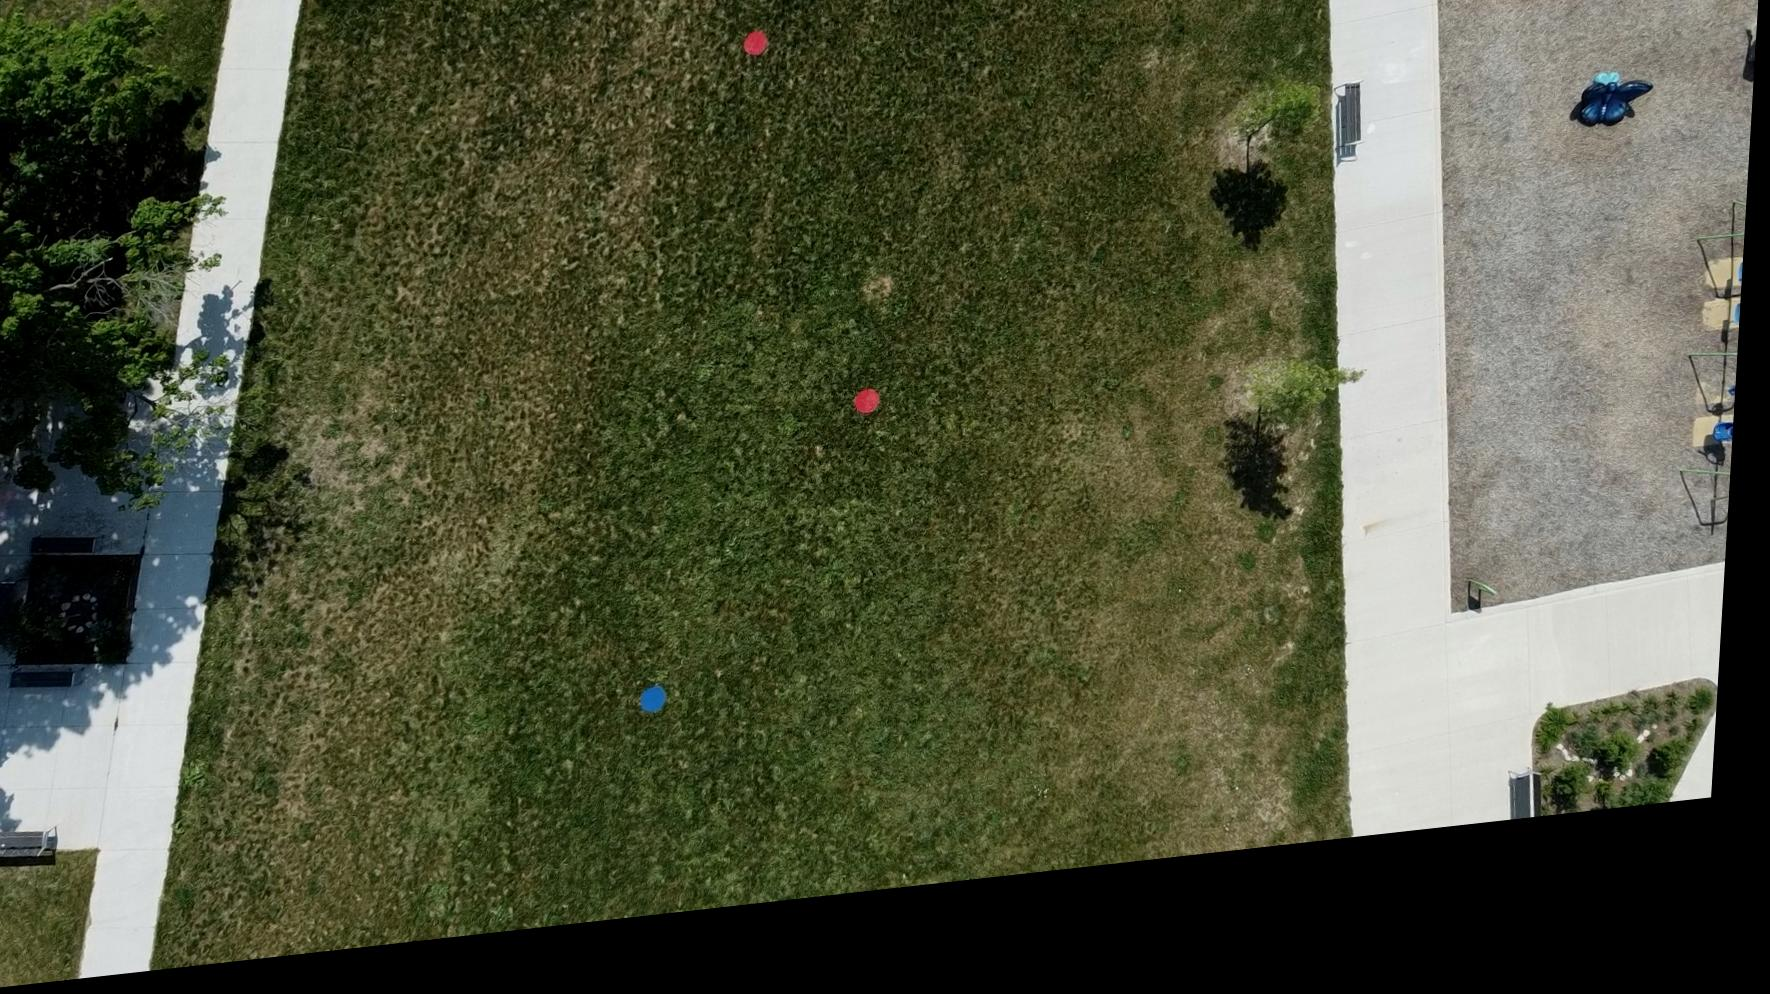Blue: (647, 699, 678, 732)
Red: (742, 44, 773, 77), (858, 407, 887, 439)
